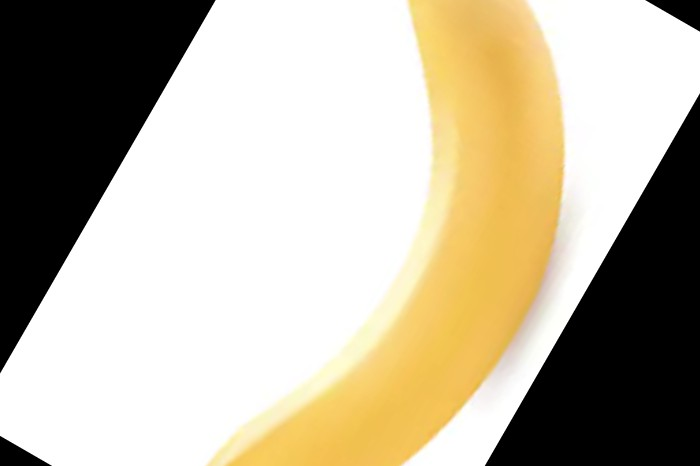fresh_banana: (204, 1, 566, 466)
